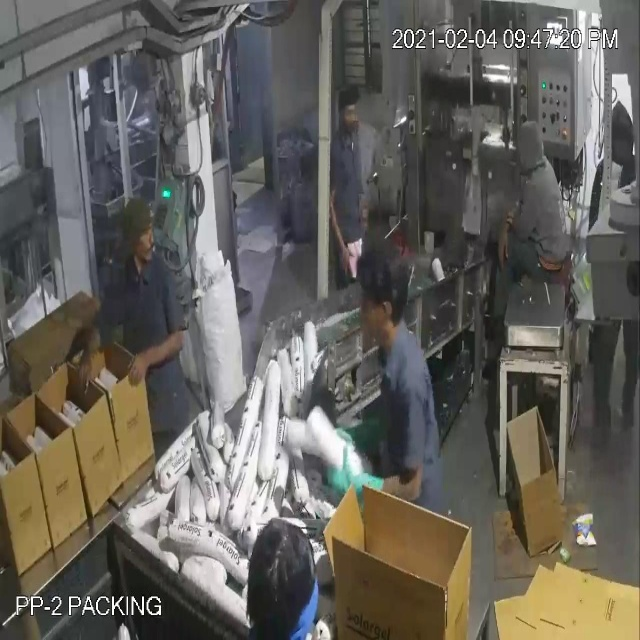Guantes: (330, 451, 390, 522)
Sin_guantes: (118, 328, 194, 391), (71, 305, 106, 398), (326, 187, 354, 284), (491, 207, 522, 273)
